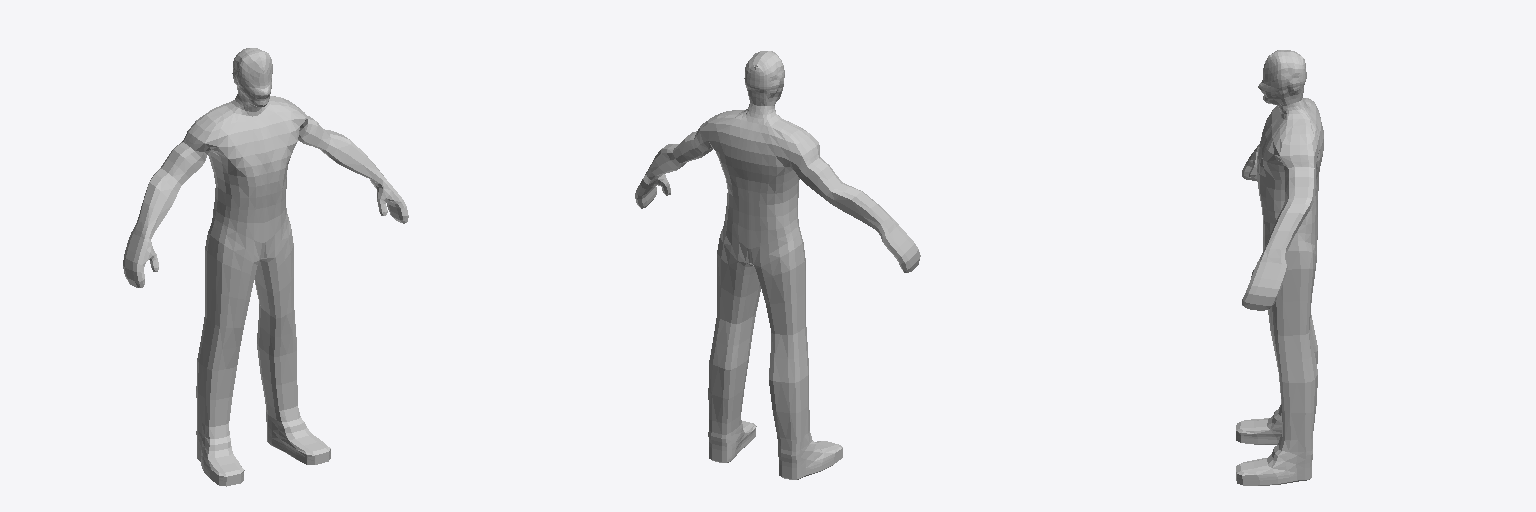
Rendered from homem_base.obj.
3 renders of one model, left to right at view 1: azimuth 30°, elevation 25°; view 2: azimuth 150°, elevation 25°; view 3: azimuth 270°, elevation 25°, orthographic.
Visible parts, largest first — view 1: CORPO_Cube.001; view 2: CORPO_Cube.001; view 3: CORPO_Cube.001.
Boxes of the visible parts, <box> form: CORPO_Cube.001: <box>123,48,408,486</box>; CORPO_Cube.001: <box>635,51,920,479</box>; CORPO_Cube.001: <box>1236,50,1323,485</box>.
Size of the model in its own units: 1.4 by 2.01 by 0.3935.